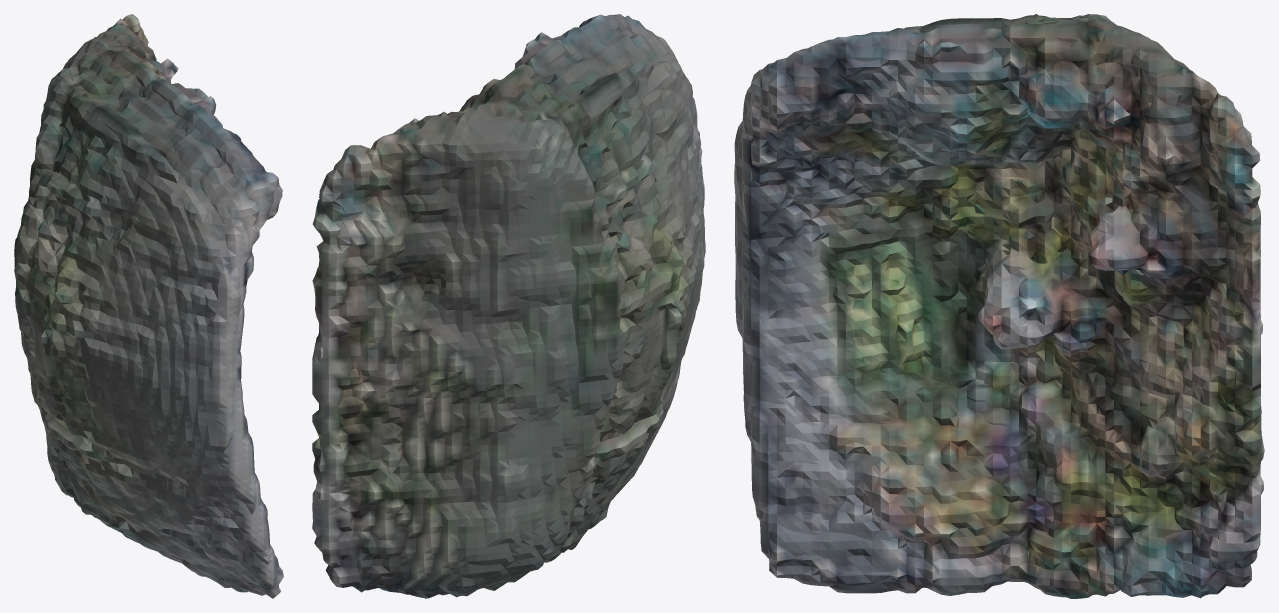
File: prop-break-garden.glb
3 renders of one model, left to right at view 1: azimuth 30°, elevation 25°; view 2: azimuth 150°, elevation 25°; view 3: azimuth 270°, elevation 25°, orthographic. The views are drawn at different scales.
Visible parts, largest first — view 1: world; view 2: world; view 3: world.
Part boxes in pixels (bbox=[...]): world: bbox=[14, 14, 283, 598]; world: bbox=[312, 14, 705, 598]; world: bbox=[734, 14, 1264, 598].
Bounding box in the file's own units: 0.4893 × 0.9713 × 0.8407.
